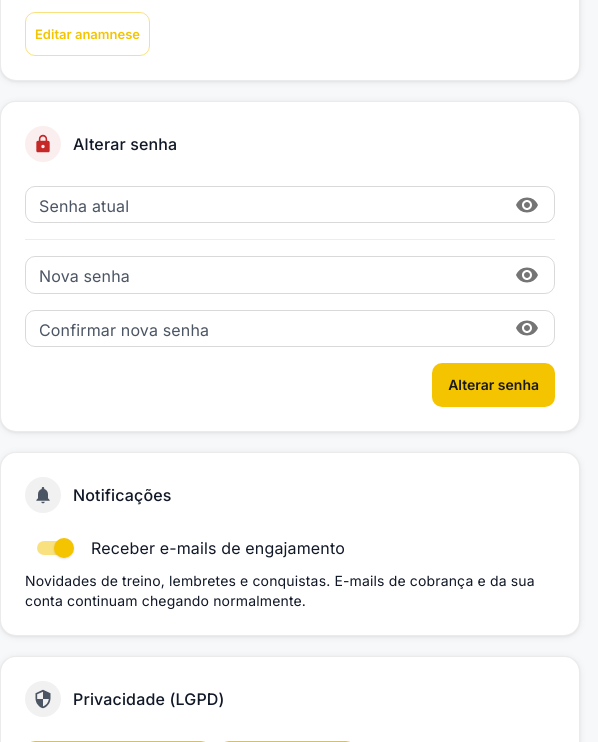
Test case: /perfil — alterar senha › submit vazio exibe erro de campo obrigatório
This screenshot has width=598, height=742.
(page scrolled)
Click the button "Alterar senha" at (494, 385), box [432,363,555,407]
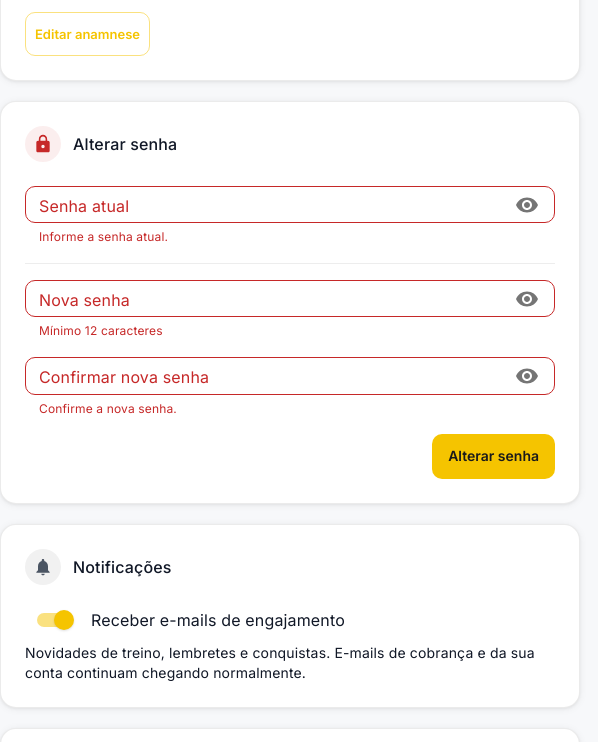
Expected: the text "Informe a senha atual." is shown, [39,230,168,244]
